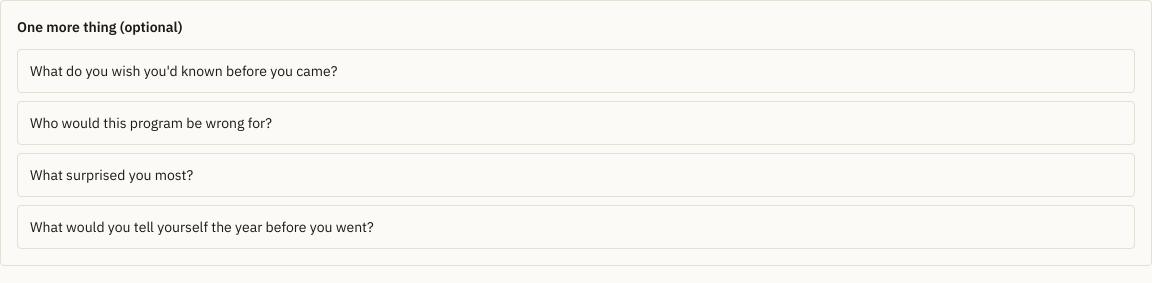
Scenario: ElaborationBlock choose → open → add flow › tapping a prompt row reveals a textarea for that prompt
The image size is (1152, 283).
Click the button "What surprised you most?". click: (112,175)
box: [17,153,1135,197]
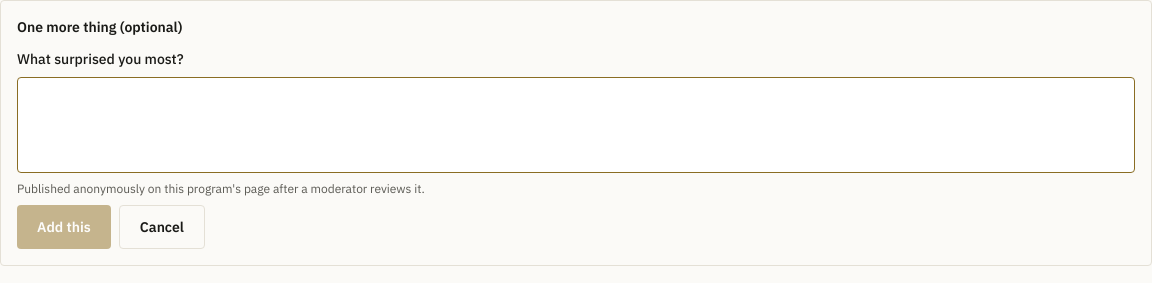
Expected: the text box is shown, [17,77,1135,173]
Expected: the button "Add this" is shown, [17,205,111,249]
